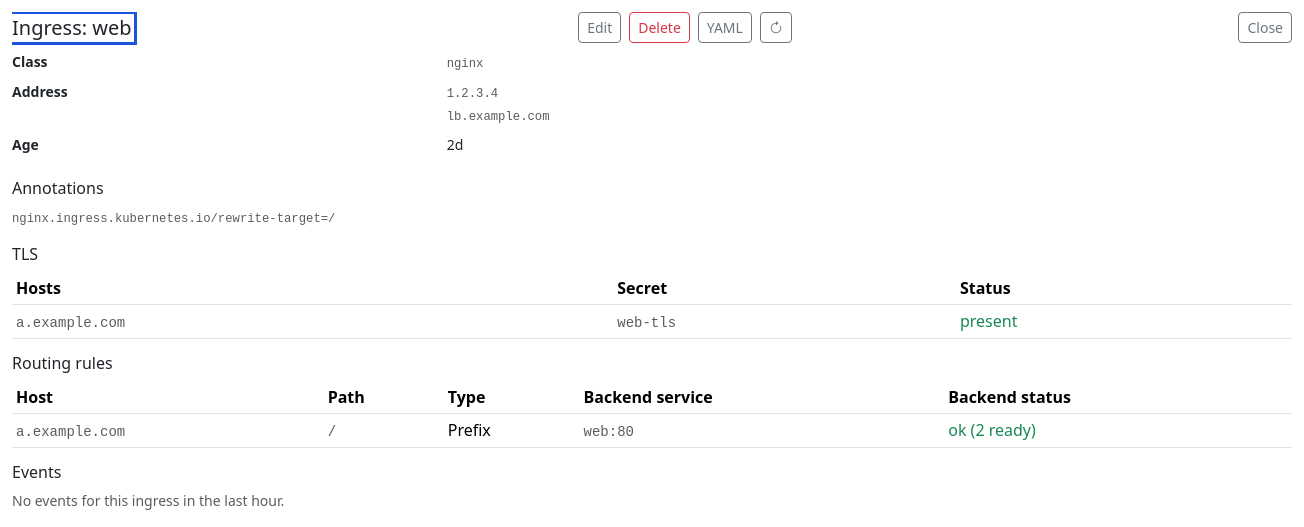
Test case: IngressDetail - actions › opens the YAML sub-view for the ingress
Click the button "YAML". click: (725, 28)
box: left=698, top=12, right=752, bottom=43
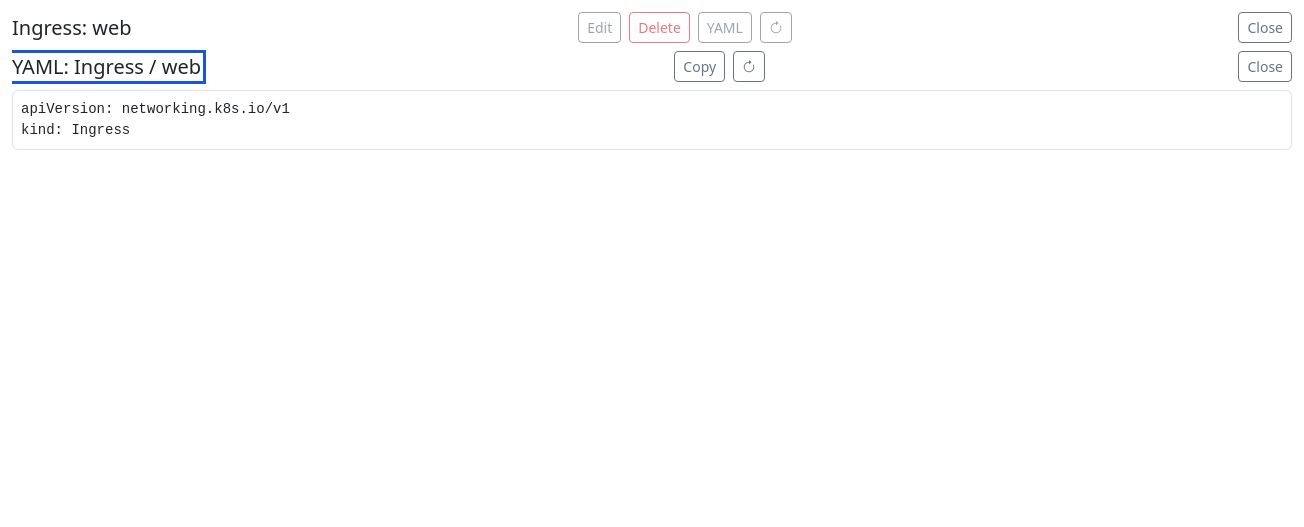
Expected: the text "kind: Ingress" is shown, left=21, top=101, right=290, bottom=138
